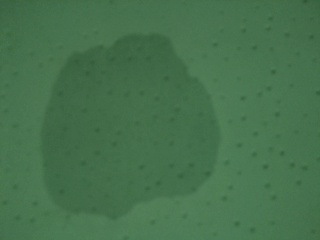Water_detected: (59, 58, 187, 189)
